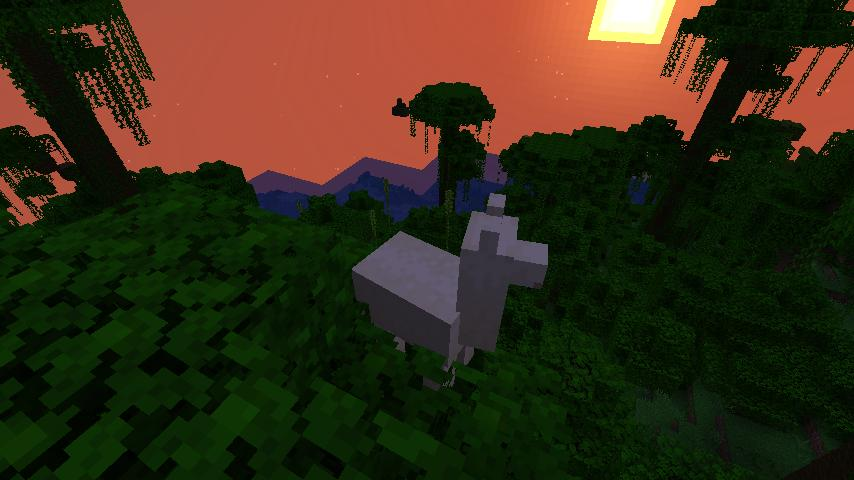llama: (353, 189, 552, 389)
